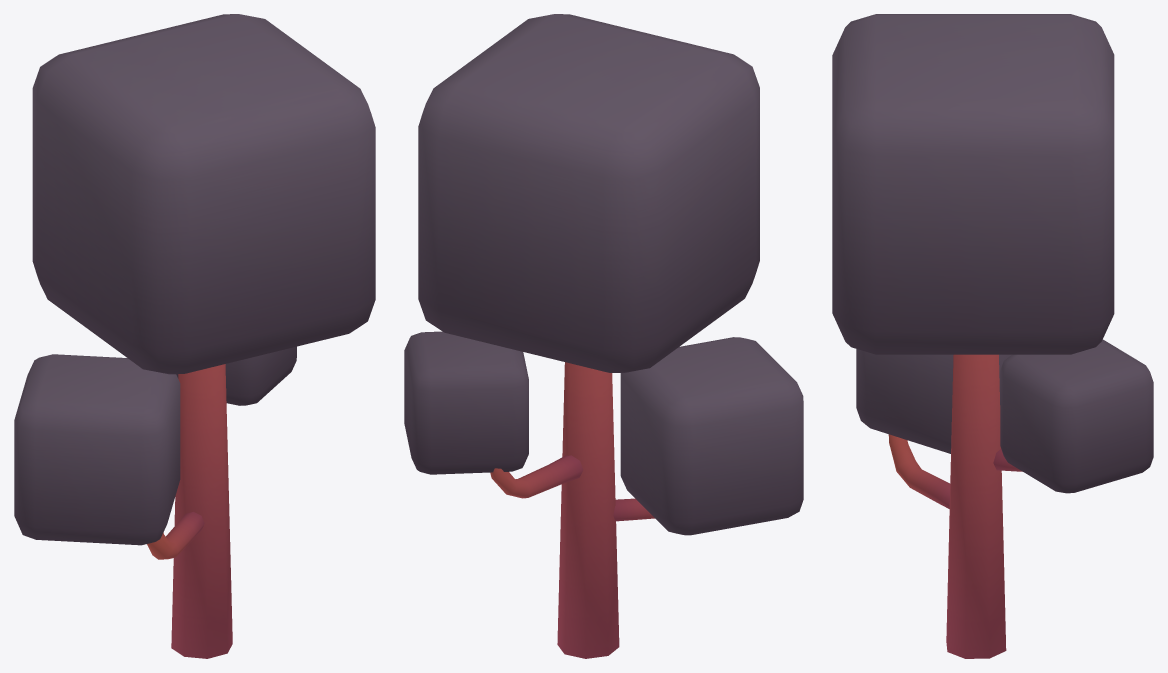
File: Tree6_Dark.glb
3 renders of one model, left to right at view 1: azimuth 30°, elevation 25°; view 2: azimuth 150°, elevation 25°; view 3: azimuth 270°, elevation 25°, orthographic. The views are drawn at different scales.
Visible parts, largest first — view 1: Tree6_Dark; view 2: Tree6_Dark; view 3: Tree6_Dark.
Boxes of the visible parts, x1,y1,x2,y2 form: Tree6_Dark: (14, 14, 375, 658); Tree6_Dark: (404, 14, 803, 658); Tree6_Dark: (832, 14, 1153, 658).
Bounding box in the file's own units: 2.69 × 4.4 × 2.17.
1 material, 1 textured.
